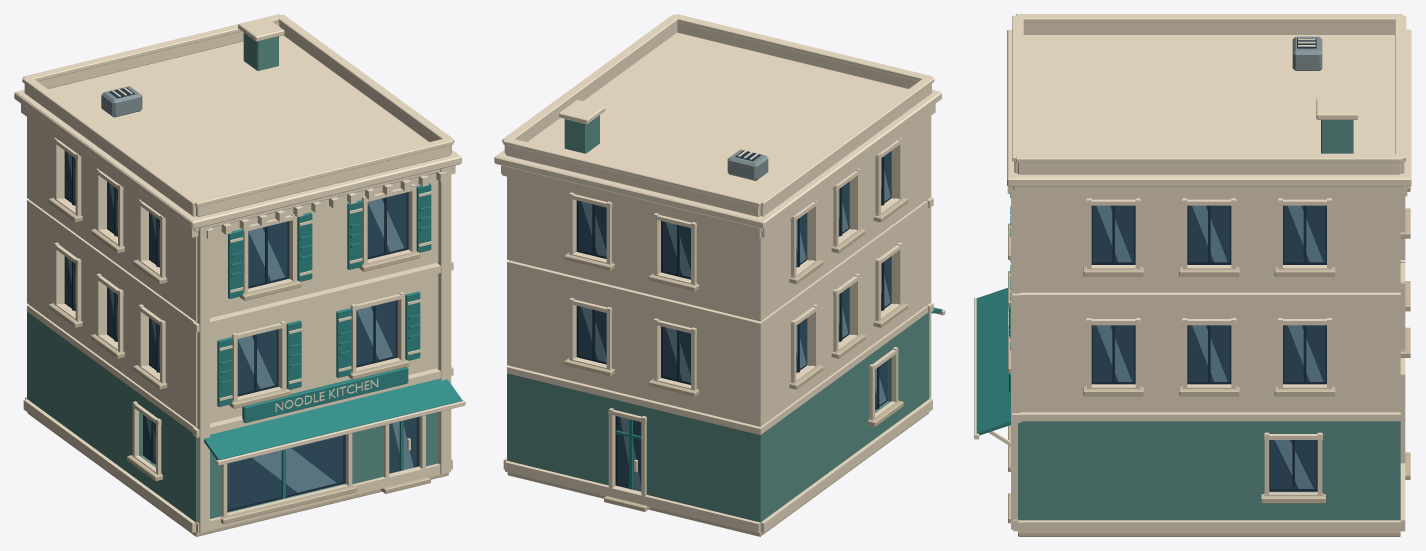
Rendered from noodle_kitchen.glb.
3 renders of one model, left to right at view 1: azimuth 30°, elevation 25°; view 2: azimuth 150°, elevation 25°; view 3: azimuth 270°, elevation 25°, orthographic. The views are drawn at different scales.
Visible parts, largest first — view 1: NoodleKitchen_StaticMesh; view 2: NoodleKitchen_StaticMesh; view 3: NoodleKitchen_StaticMesh.
Boxes of the visible parts, bbox=[...] form: NoodleKitchen_StaticMesh: bbox=[14, 14, 465, 536]; NoodleKitchen_StaticMesh: bbox=[494, 14, 945, 536]; NoodleKitchen_StaticMesh: bbox=[974, 14, 1411, 536].
Bounding box in the file's own units: 8.32 × 10.51 × 10.29.
